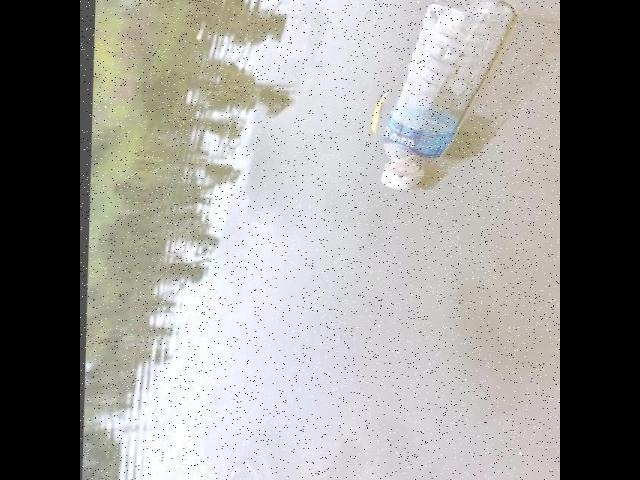Bottle: (374, 0, 516, 197)
